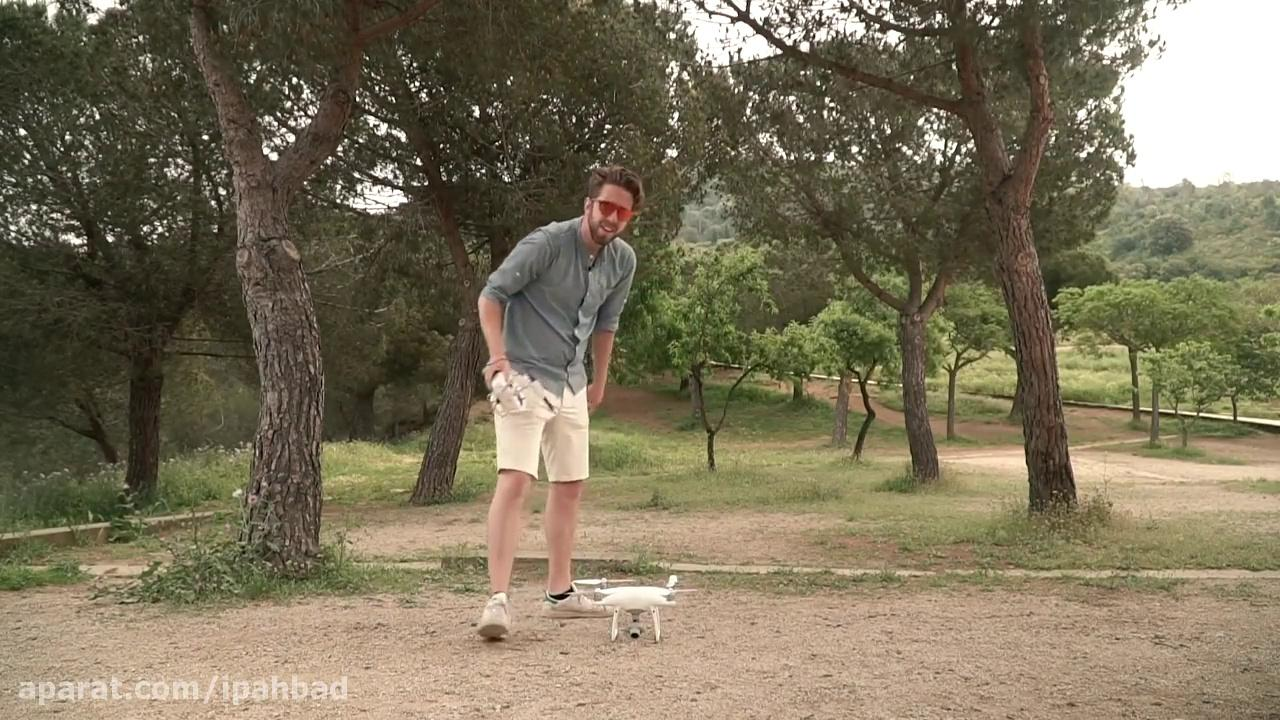drone: (582, 571, 696, 647)
